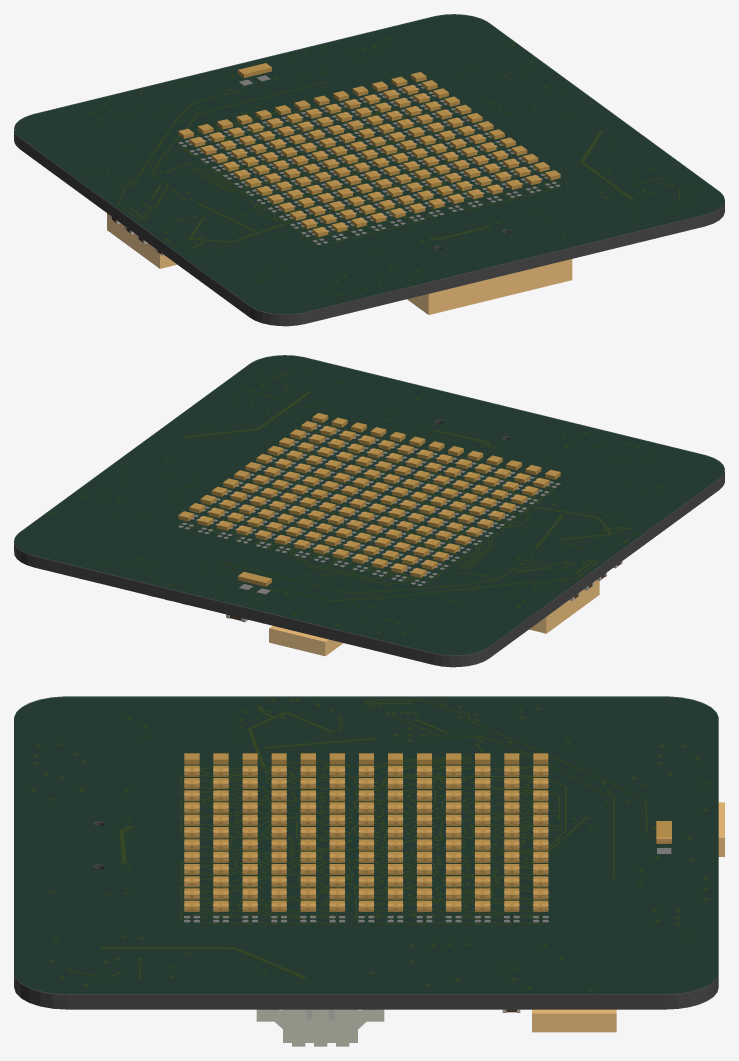
The model's file is board.glb.
The picture shows the model from 3 angles, top to bottom: view 1: azimuth 30°, elevation 25°; view 2: azimuth 150°, elevation 25°; view 3: azimuth 270°, elevation 25°; orthographic projection. The views are drawn at different scales.
Parts seen in each view (by area): view 1: ploughed_8L_soldermask, ploughed_8L_PCB, ploughed_8L_pad, J1, ploughed_8L_copper, U3; view 2: ploughed_8L_soldermask, ploughed_8L_PCB, ploughed_8L_pad, ploughed_8L_copper, SW2, U3; view 3: ploughed_8L_soldermask, ploughed_8L_PCB, ploughed_8L_pad, ploughed_8L_copper, Molex_PicoBlade_53261-0271_1x02-1MP_P1.25mm_Horizontal, SW1.
Boxes of the visible parts, box(x1,y1,x2,y2) form: ploughed_8L_soldermask: box(14, 14, 724, 314); ploughed_8L_PCB: box(14, 15, 724, 326); ploughed_8L_pad: box(178, 75, 560, 244); J1: box(407, 259, 572, 314); ploughed_8L_copper: box(86, 45, 698, 295); U3: box(107, 213, 176, 268); ploughed_8L_soldermask: box(14, 355, 724, 655); ploughed_8L_PCB: box(14, 356, 724, 667); ploughed_8L_pad: box(178, 424, 560, 594); ploughed_8L_copper: box(52, 372, 653, 633); SW2: box(269, 625, 343, 656); U3: box(529, 580, 599, 633); ploughed_8L_soldermask: box(14, 696, 718, 994); ploughed_8L_PCB: box(14, 698, 718, 1009); ploughed_8L_pad: box(184, 768, 671, 922); ploughed_8L_copper: box(31, 700, 707, 991); Molex_PicoBlade_53261-0271_1x02-1MP_P1.25mm_Horizontal: box(256, 1009, 384, 1046); SW1: box(532, 1009, 616, 1032).
Bounding box in the file's own units: 0.0404 × 0.0054 × 0.0403.
